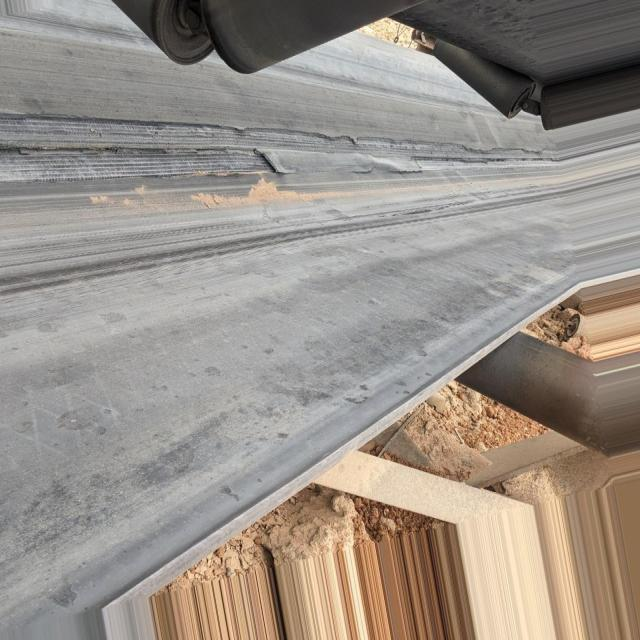Tear: (1, 112, 553, 204)
